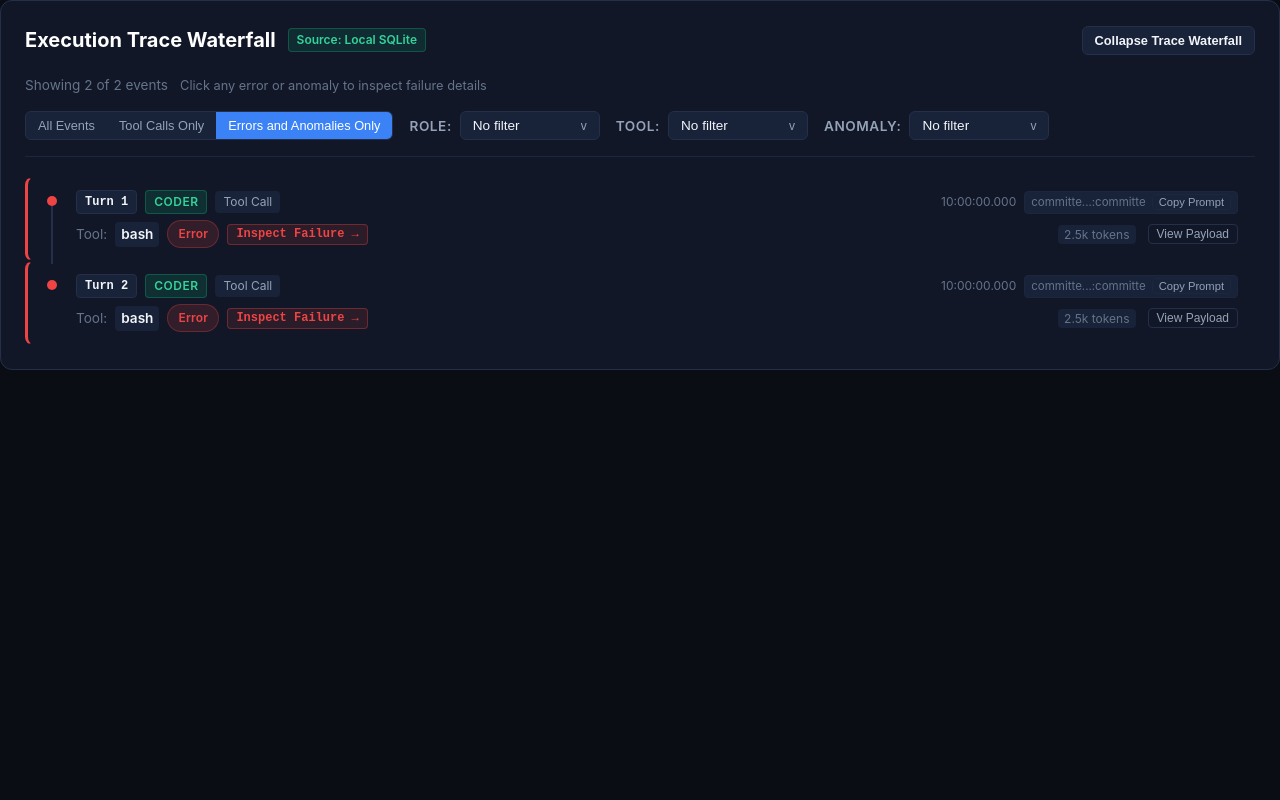
Scenario: FIX-12 event facts without payload hydration › retains local_sqlite payloads alongside a bare committed row
Expected: the text with test id "waterfall-source-badge" reads "Source: Local SQLite", [297,32,417,47]
Click the button with aria-label "View payload for turn 1". click: [1193, 234]
box: [1148,224,1238,244]
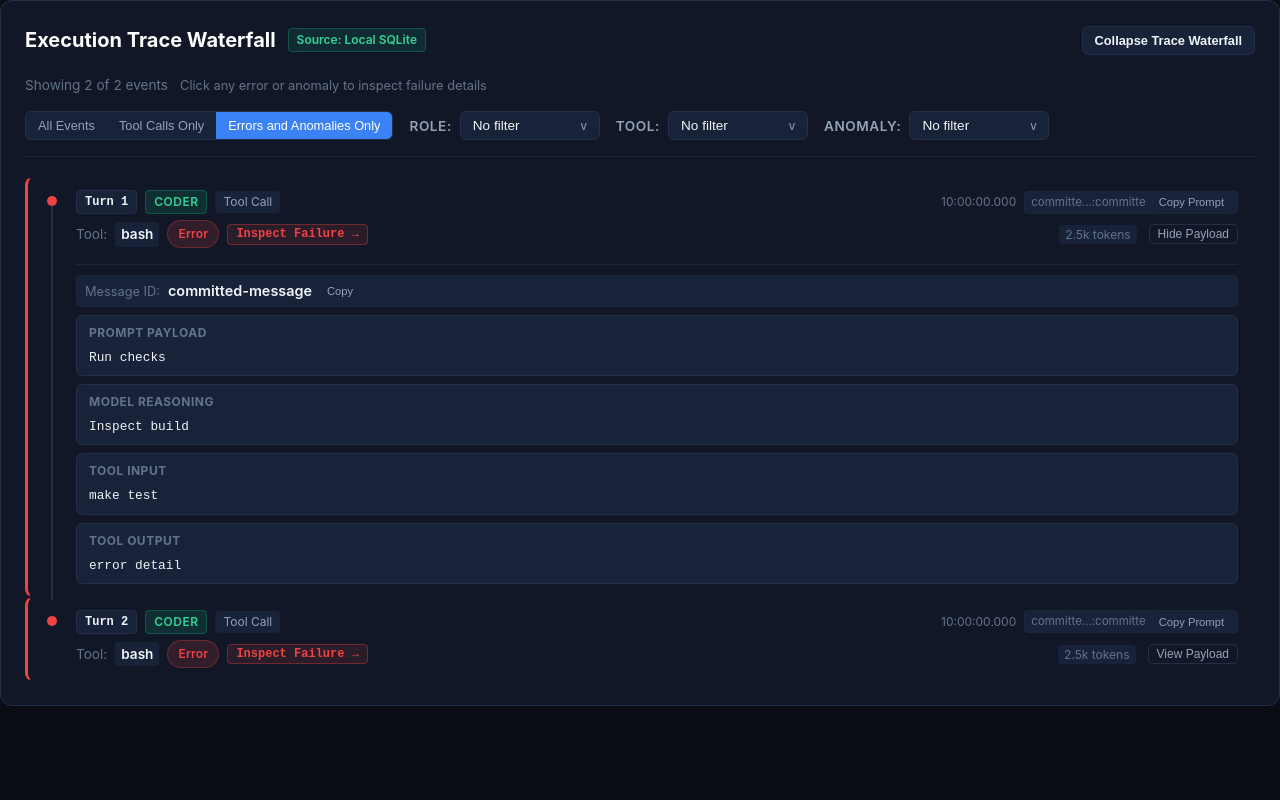
Result: the element with test id "tool-input-payload-block" shows "make test" at [89,488,158,503]
Result: the element with test id "tool-output-payload-block" shows "error detail" at [89,558,181,573]
Result: the element with test id "prompt-payload-block" shows "Run checks" at [89,350,166,365]
Click the button with aria-label "View payload for turn 2". click: [1193, 654]
box: [1148,644,1238,664]
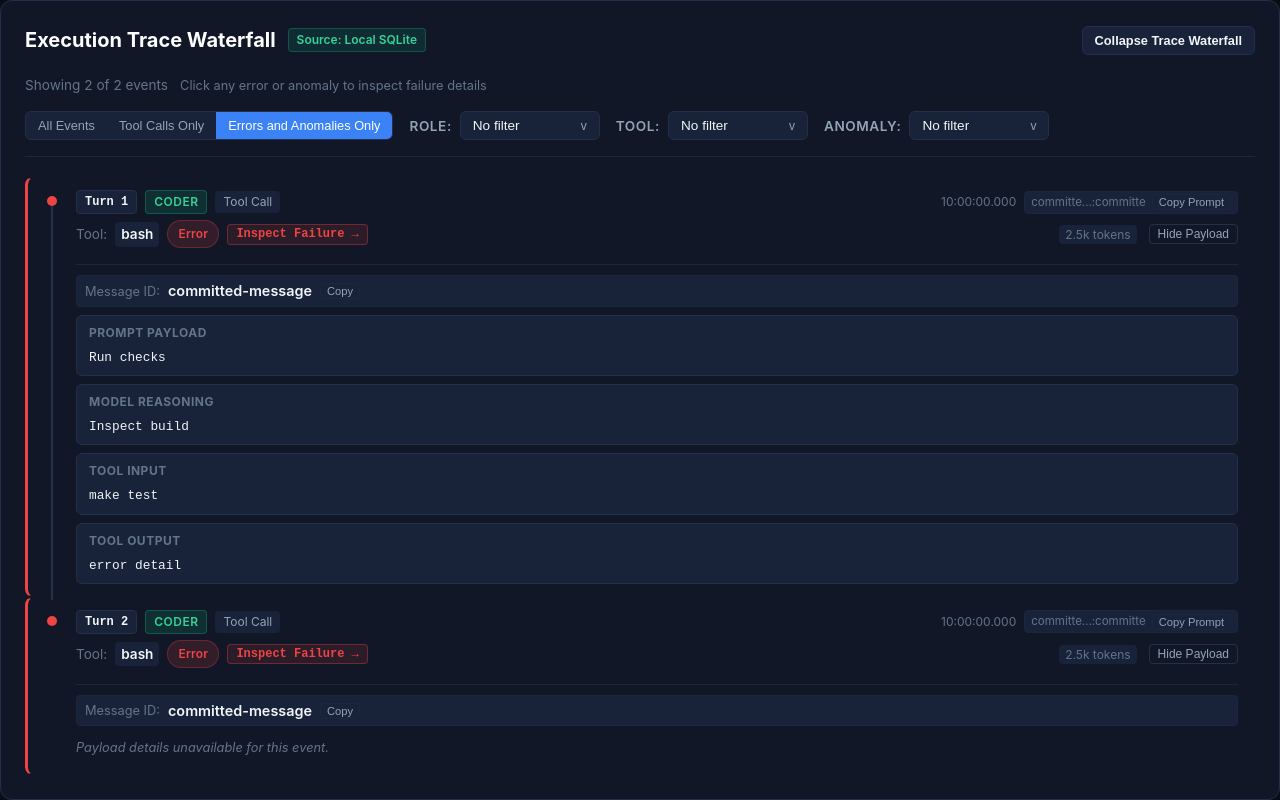
Result: the text with test id "unhydrated-notice" shows "Payload details unavailable" at [76,740,329,755]
